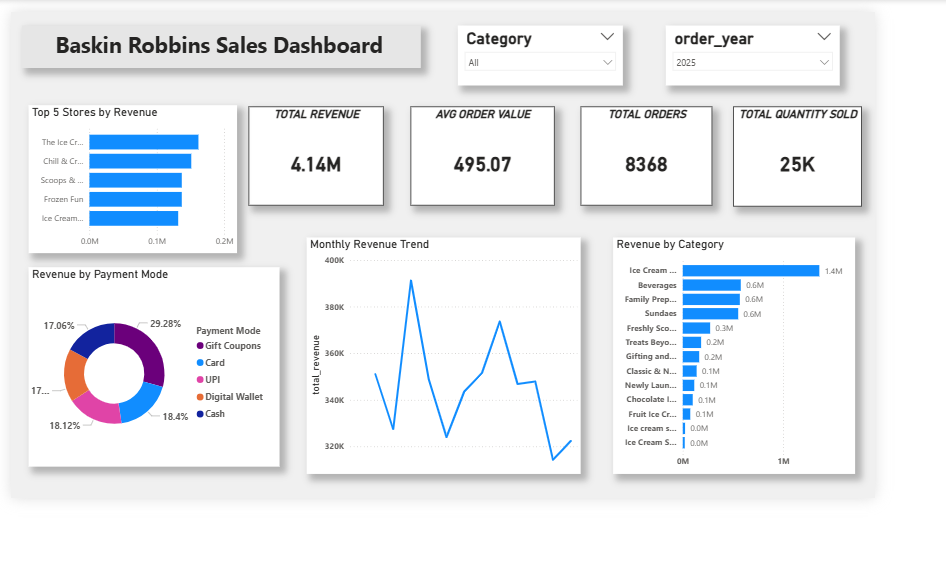

This screenshot's page, from the dashboard's own definition file:
{"tool":"powerbi","page":{"name":"Page 1","canvas":[1280,720],"ordinal":0},"visuals":[{"type":"textbox","box":[16.5,19.8,591.1,62.7],"z":0},{"type":"slicer","fields":{"Values":["Bills.order_year"]},"box":[970.8,19.8,257.6,89.2],"z":1},{"type":"slicer","fields":{"Values":["Bills.Category"]},"box":[662.1,19.8,244.4,89.2],"z":2},{"type":"card","title":"TOTAL REVENUE","fields":{"Values":["Bills.total_revenue"]},"box":[351.7,140.3,199.8,146.9],"z":3},{"type":"card","title":"TOTAL ORDERS","fields":{"Values":["Bills.total_orders"]},"box":[843.7,140.3,194.8,146.9],"z":4},{"type":"card","title":"AVG ORDER VALUE","fields":{"Values":["Bills.average_order_value"]},"box":[591.1,140.3,213,146.9],"z":5},{"type":"card","title":"TOTAL QUANTITY SOLD","fields":{"Values":["Bills.total_quantity_sold"]},"box":[1070,140,190,148],"z":6},{"type":"lineChart","title":"Monthly Revenue Trend","fields":{"Category":["Bills.Order_month"],"Y":["Bills.total_revenue"]},"box":[437.5,333.5,406.2,350],"z":7},{"type":"clusteredBarChart","title":"Revenue by Category","fields":{"Category":["Bills.Category"],"Y":["Bills.total_revenue"]},"box":[891.6,333.5,358.3,350],"z":8},{"type":"donutChart","title":"Revenue by Payment Mode","fields":{"Category":["Bills.Payment Mode"],"Y":["Bills.total_revenue"]},"box":[26.4,378.1,371.5,295.5],"z":9},{"type":"clusteredBarChart","title":"Top 5 Stores by Revenue","fields":{"Category":["Outlet.Store Name"],"Y":["Bills.total_revenue"]},"box":[26.4,138.7,308.7,219.6],"z":10}]}

Visuals, with their boxes on the page's 1280x720 design canvas (x1, y1, x2, y2). These are canvas units, not pixel positions in the 946x574 screenshot, which may show the page scaled, cropped or inside an application window:
textbox: (x1=16, y1=20, x2=608, y2=82)
slicer - Bills.order_year: (x1=971, y1=20, x2=1228, y2=109)
slicer - Bills.Category: (x1=662, y1=20, x2=906, y2=109)
"TOTAL REVENUE" card: (x1=352, y1=140, x2=552, y2=287)
"TOTAL ORDERS" card: (x1=844, y1=140, x2=1038, y2=287)
"AVG ORDER VALUE" card: (x1=591, y1=140, x2=804, y2=287)
"TOTAL QUANTITY SOLD" card: (x1=1070, y1=140, x2=1260, y2=288)
"Monthly Revenue Trend" lineChart: (x1=438, y1=334, x2=844, y2=684)
"Revenue by Category" clusteredBarChart: (x1=892, y1=334, x2=1250, y2=684)
"Revenue by Payment Mode" donutChart: (x1=26, y1=378, x2=398, y2=674)
"Top 5 Stores by Revenue" clusteredBarChart: (x1=26, y1=139, x2=335, y2=358)
